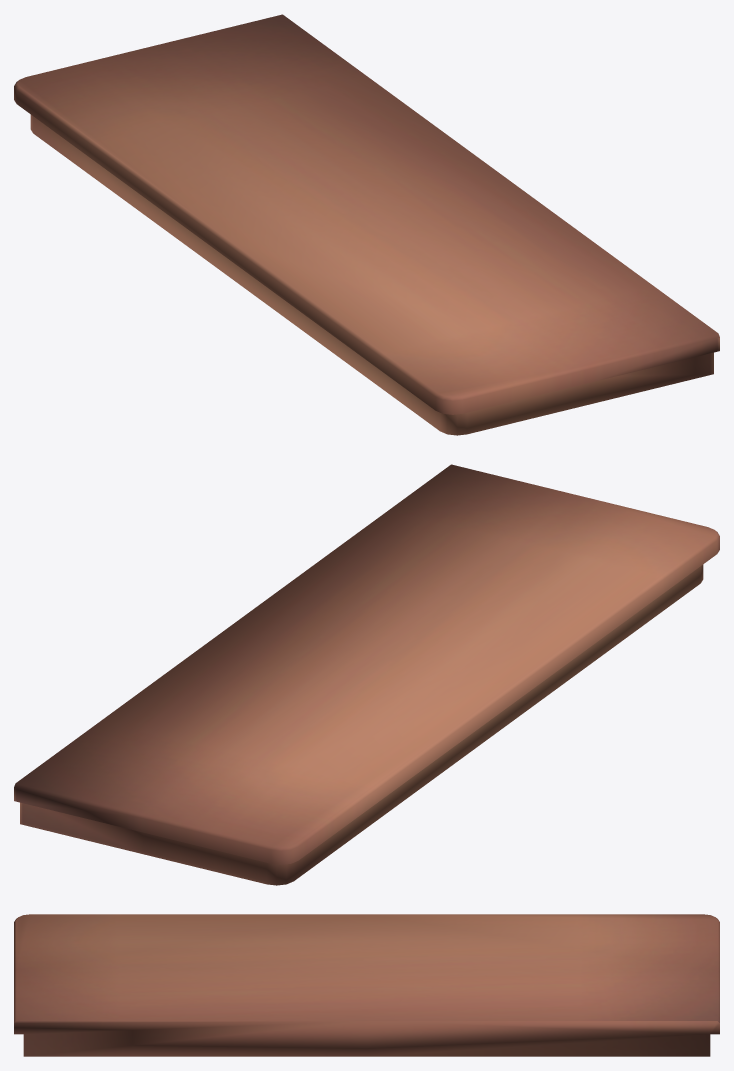
Rendered from Front2.fbx.
3 renders of one model, top to bottom at view 1: azimuth 30°, elevation 25°; view 2: azimuth 150°, elevation 25°; view 3: azimuth 270°, elevation 25°, orthographic. The views are drawn at different scales.
Visible parts, largest first — view 1: Front2; view 2: Front2; view 3: Front2.
Part boxes in pixels (x1,y1,x2,y2): Front2: (14,14,719,435); Front2: (14,464,719,885); Front2: (14,914,719,1056).
Bounding box in the file's own units: 5.49 × 1.98 × 0.3052.
